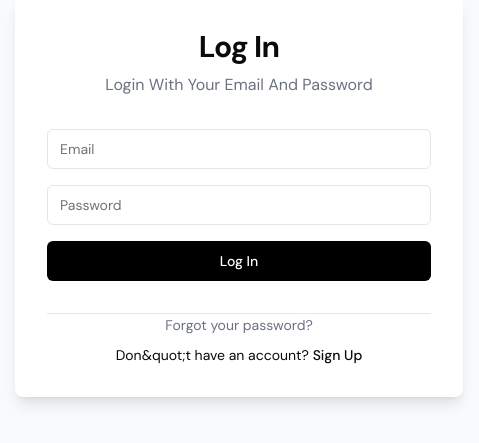
Login Component › displays an error message on failed login
Type "test@example.com" into the field with placeholder "Email".
click(239, 149); type("test@example.com")  # box [47, 129, 431, 169]
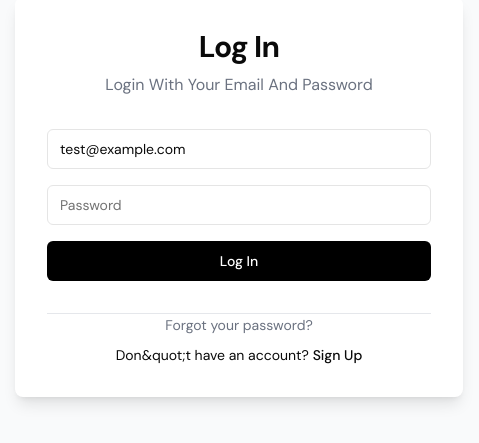
Type "wrongpassword" into the password field with placeholder "Password".
click(239, 205); type("wrongpassword")  # box [47, 185, 431, 225]
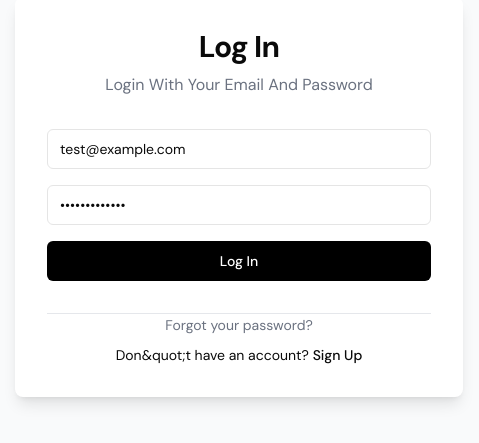
Click the button "Log In".
click(239, 261)  # box [47, 241, 431, 281]
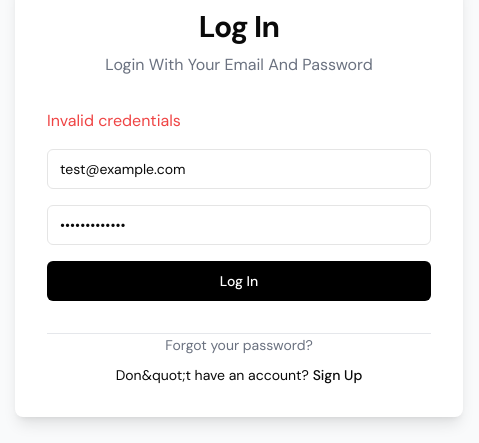
Result: the text "Invalid credentials" is shown at [47, 110, 181, 131]
